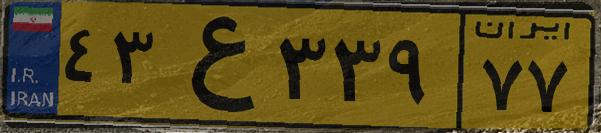3: (270, 28, 330, 110), (330, 28, 385, 110), (110, 28, 158, 98)
4: (57, 26, 110, 100)
7: (475, 38, 525, 113), (525, 38, 570, 115)
9: (385, 28, 445, 110)
ع: (158, 12, 270, 120)
